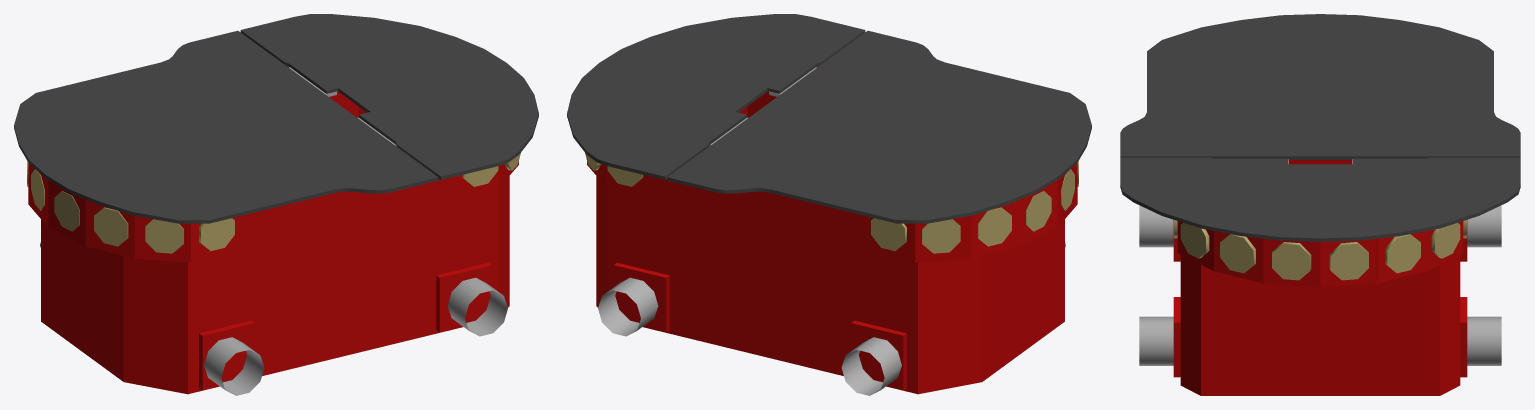
Rendered from chassis.dae.
3 views of the same model, side by side, from view 1: azimuth 30°, elevation 25°; view 2: azimuth 150°, elevation 25°; view 3: azimuth 270°, elevation 25° (orthographic).
Visible parts, largest first — view 1: Cube_001, Plane_001, Cylinder_001, Plane_007, Plane_002, Plane_006, Plane_005, Cylinder, Cylinder_002; view 2: Cube_001, Plane_001, Cylinder_002, Plane_012, Plane_015, Plane_013, Plane_014, Cylinder_003, Cylinder_001; view 3: Cube_001, Plane_001, Cylinder, Cylinder_003, Plane_007, Plane_012, Plane_002, Plane_015, Plane_006, Plane_013.
Part boxes in pixels (bbox=[...]): Cube_001: bbox=[14, 14, 538, 223]; Plane_001: bbox=[28, 67, 518, 394]; Cylinder_001: bbox=[54, 191, 234, 253]; Plane_007: bbox=[447, 277, 507, 336]; Plane_002: bbox=[204, 337, 264, 395]; Plane_006: bbox=[436, 262, 492, 332]; Plane_005: bbox=[199, 320, 254, 390]; Cylinder: bbox=[462, 153, 520, 186]; Cylinder_002: bbox=[27, 160, 44, 210]; Cube_001: bbox=[567, 14, 1091, 223]; Plane_001: bbox=[587, 67, 1077, 394]; Cylinder_002: bbox=[871, 191, 1051, 253]; Plane_012: bbox=[598, 277, 658, 336]; Plane_015: bbox=[841, 337, 901, 395]; Plane_013: bbox=[613, 262, 669, 332]; Plane_014: bbox=[851, 320, 906, 390]; Cylinder_003: bbox=[585, 153, 643, 186]; Cylinder_001: bbox=[1061, 160, 1078, 210]; Cube_001: bbox=[1120, 14, 1520, 241]; Plane_001: bbox=[1177, 160, 1463, 395]; Cylinder: bbox=[1174, 220, 1311, 280]; Cylinder_003: bbox=[1329, 220, 1466, 280]; Plane_007: bbox=[1139, 316, 1173, 365]; Plane_012: bbox=[1467, 316, 1501, 365]; Plane_002: bbox=[1139, 205, 1173, 247]; Plane_015: bbox=[1467, 205, 1501, 247]; Plane_006: bbox=[1173, 297, 1180, 377]; Plane_013: bbox=[1460, 297, 1467, 377].
Size of the model in its own units: 0.5082 by 0.3831 by 0.1956.
